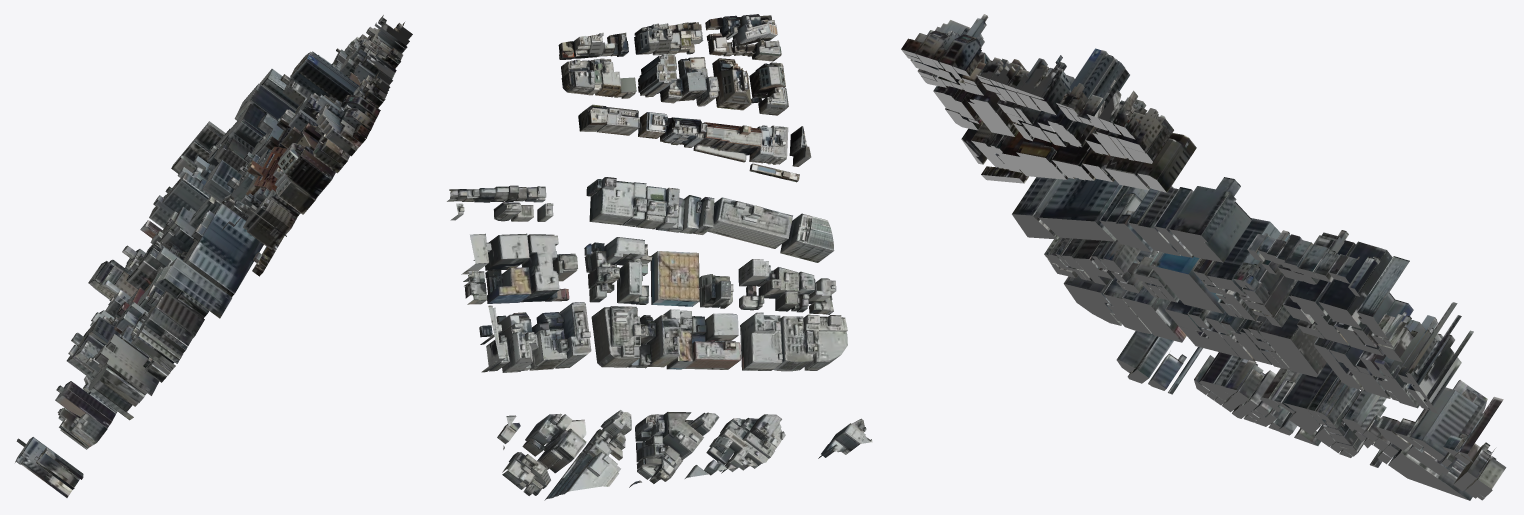
File: 19771_bldg_Building.glb
3 views of the same model, side by side, from view 1: azimuth 30°, elevation 25°; view 2: azimuth 150°, elevation 25°; view 3: azimuth 270°, elevation 25° (orthographic). The views are drawn at different scales.
Bounding box in the file's own units: 280 × 262 × 304.
Materials: 8 (6 with a texture image).
